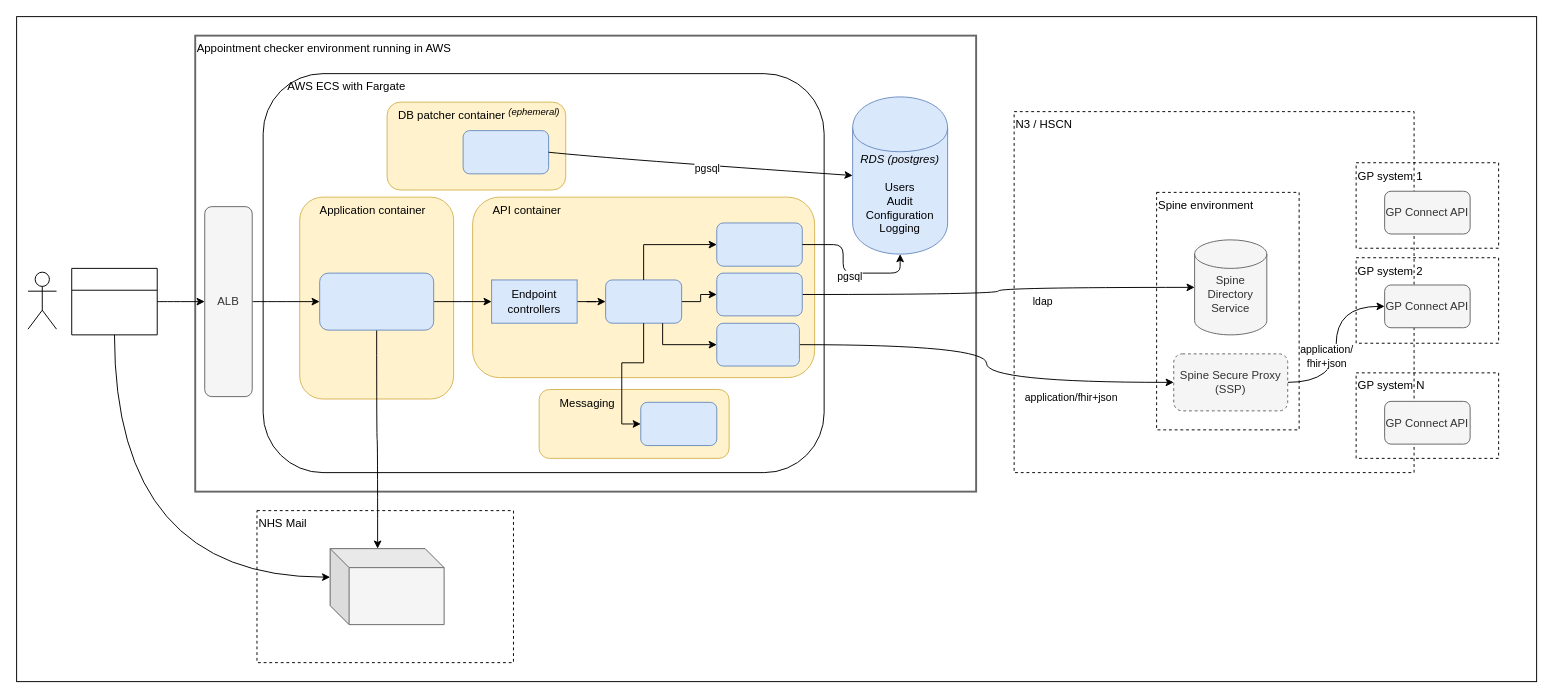
Image size: 1553x698. Some labels were removed from this diagram. The shapes that lost their labels are listed below. From the top down, each one's centre as x and y in pixels, then its label:
At (505,152): "Flyway + SQL files".
At (759,244): "Data layer".
At (42,300): "User".
At (114,301): "browser".
At (376,301): "Web application (.NET Core)".
At (643,301): "Services layer".
At (759,294): "SDS adapter".
At (757,344): "GPC API adapter".
At (678,423): "FIFO queue".
At (386,586): "OAuth server".
